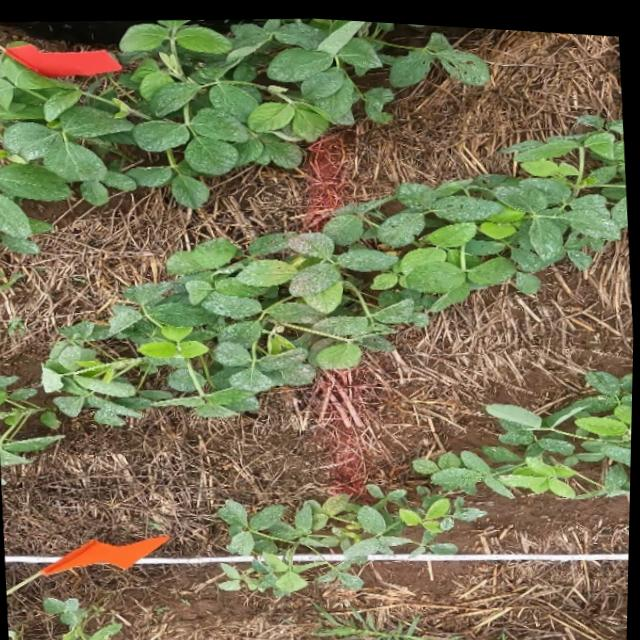grassy_weed: (314, 602, 459, 640)
soy_plant: (0, 114, 628, 465), (0, 14, 487, 252), (220, 364, 634, 591), (46, 597, 124, 640), (615, 631, 630, 640), (530, 633, 549, 640)
